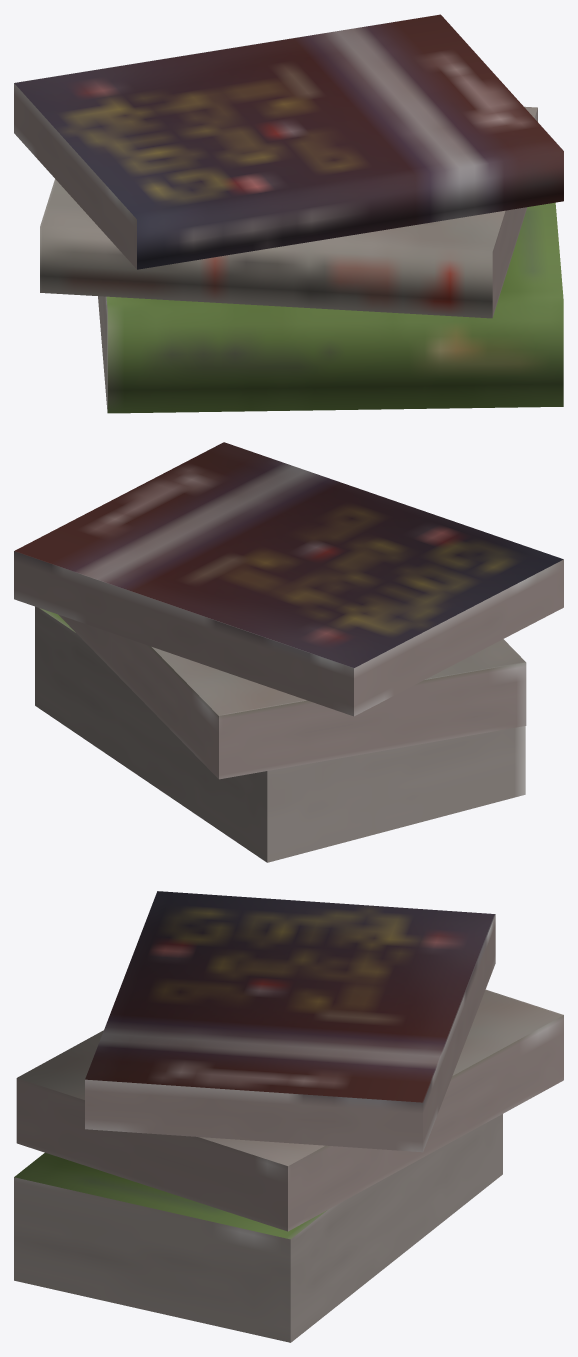
The model's file is Books4.fbx.
The picture shows the model from 3 angles, top to bottom: view 1: azimuth 30°, elevation 25°; view 2: azimuth 150°, elevation 25°; view 3: azimuth 270°, elevation 25°; orthographic projection. The views are drawn at different scales.
Visible parts, largest first — view 1: Books4; view 2: Books4; view 3: Books4.
Part boxes in pixels (x1=…): Books4: x1=14, y1=14, x2=563, y2=413; Books4: x1=14, y1=442, x2=563, y2=862; Books4: x1=14, y1=891, x2=563, y2=1342.
Size of the model in its own units: 0.4035 by 0.1661 by 0.3792.
